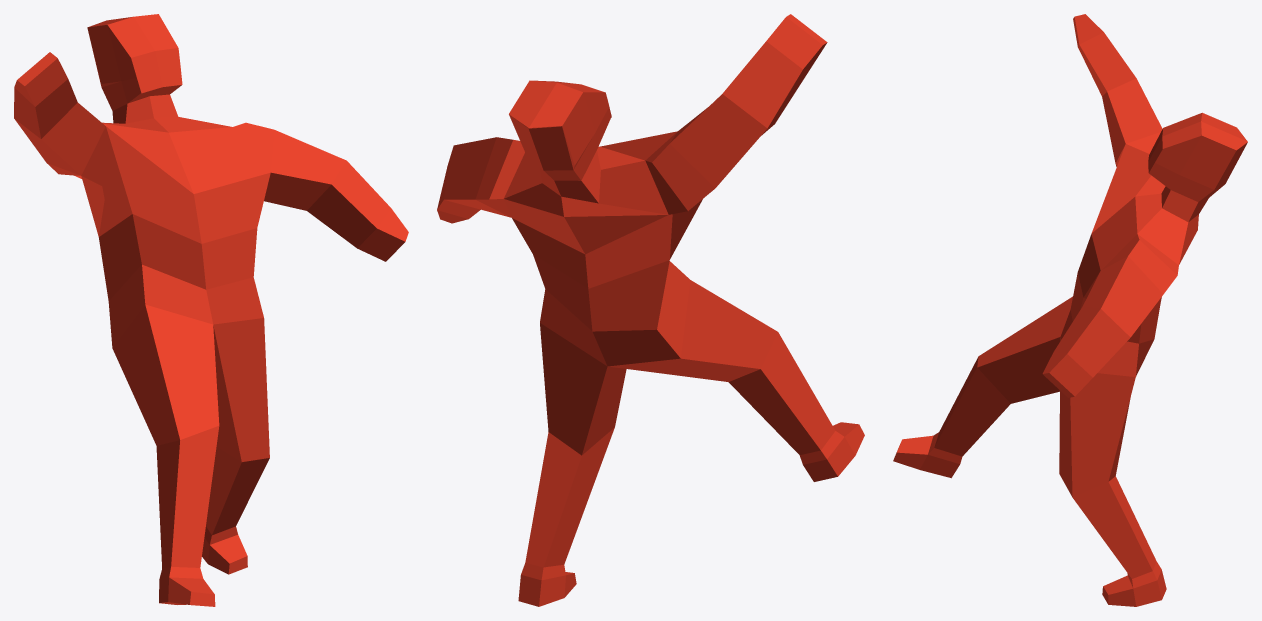
File: Player_Guard_Broke.fbx
The picture shows the model from 3 angles, left to right: view 1: azimuth 30°, elevation 25°; view 2: azimuth 150°, elevation 25°; view 3: azimuth 270°, elevation 25°; orthographic projection. The views are drawn at different scales.
Visible parts, largest first — view 1: Person; view 2: Person; view 3: Person.
Boxes of the visible parts, x1,y1,x2,y2 form: Person: [14, 14, 408, 606]; Person: [437, 14, 864, 606]; Person: [893, 14, 1247, 606].
Size of the model in its own units: 591 by 875 by 561.
